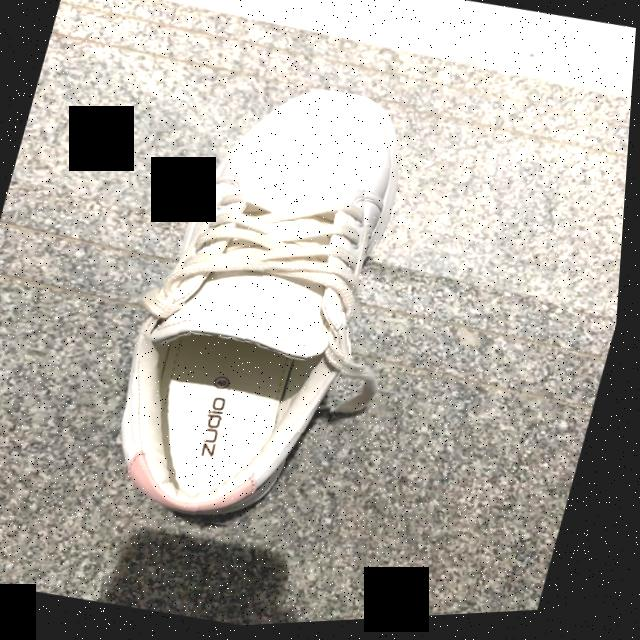shoe: (133, 97, 406, 524)
